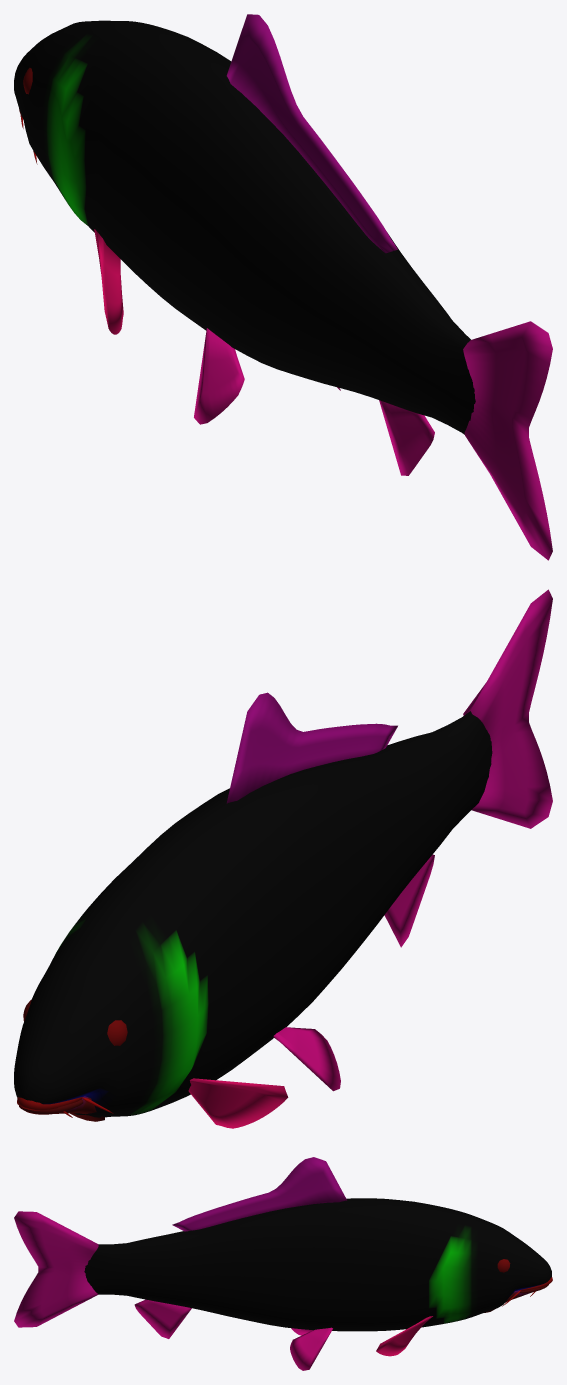
File: carp_lo.glb
The picture shows the model from 3 angles, top to bottom: view 1: azimuth 30°, elevation 25°; view 2: azimuth 150°, elevation 25°; view 3: azimuth 270°, elevation 25°; orthographic projection. The views are drawn at different scales.
Parts seen in each view (by area): view 1: carp_lo; view 2: carp_lo; view 3: carp_lo.
Boxes of the visible parts, x1,y1,x2,y2 form: carp_lo: (14,14,552,560); carp_lo: (14,589,552,1128); carp_lo: (14,1157,552,1370).
Bounding box in the file's own units: 0.1361 × 0.2783 × 0.692.
